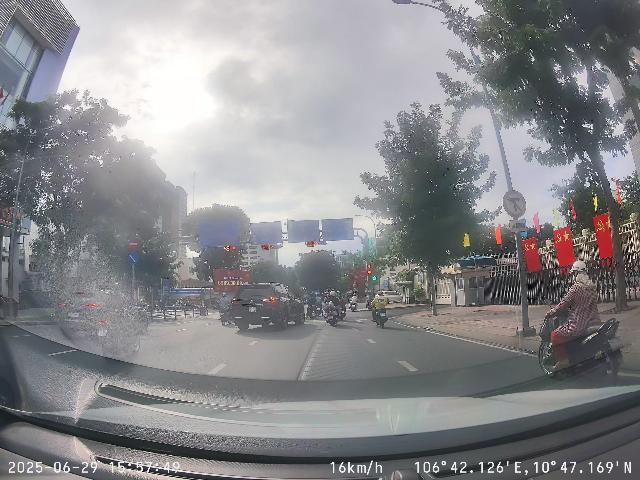137-cam-re-trai-va-re-phai: (503, 190, 526, 218)
